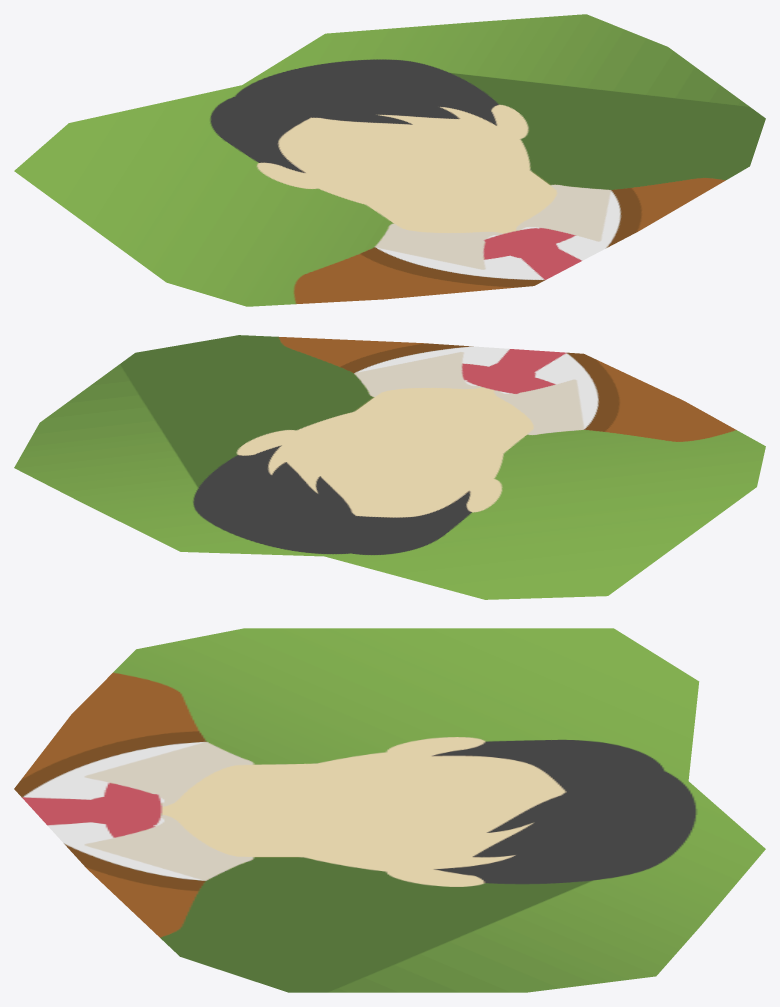
Rendered from crumple.gltf.
3 renders of one model, top to bottom at view 1: azimuth 30°, elevation 25°; view 2: azimuth 150°, elevation 25°; view 3: azimuth 270°, elevation 25°, orthographic. The views are drawn at different scales.
Visible parts, largest first — view 1: ClothKeys; view 2: ClothKeys; view 3: ClothKeys.
Part boxes in pixels (x1,y1,x2,y2): ClothKeys: (14,14,765,306); ClothKeys: (14,335,765,599); ClothKeys: (14,628,765,992).
Size of the model in its own units: 2.41 by 0 by 2.1.
1 material, 1 textured.
